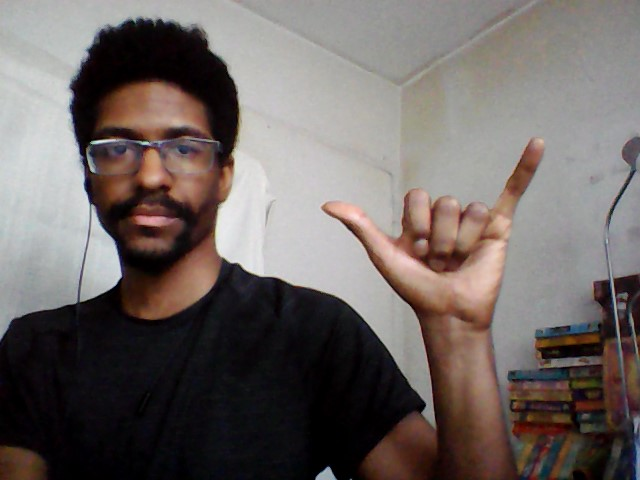y: (317, 133, 551, 328)
